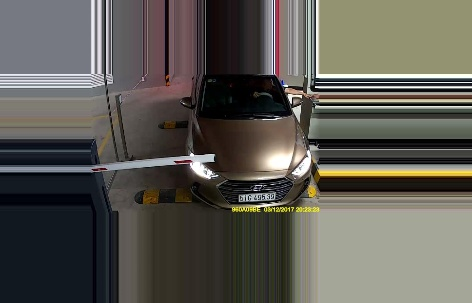plate: (234, 189, 277, 203)
